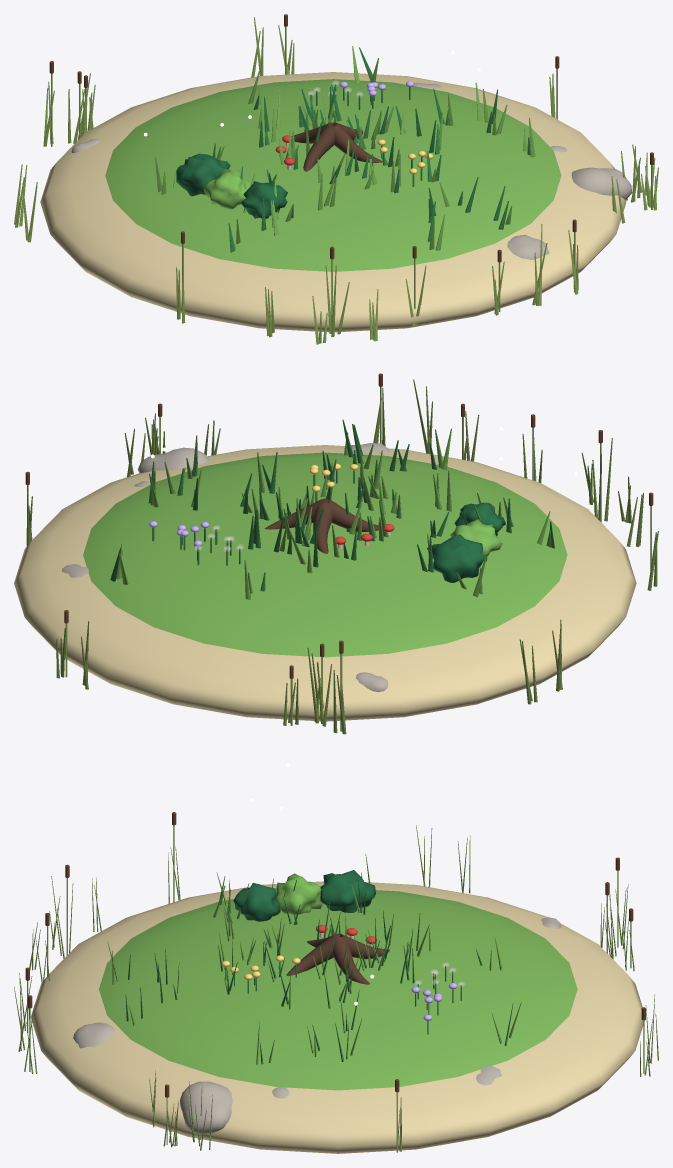
The model's file is islet_14.glb.
3 views of the same model, one above another, from view 1: azimuth 30°, elevation 25°; view 2: azimuth 150°, elevation 25°; view 3: azimuth 270°, elevation 25° (orthographic). The views are drawn at different scales.
Visible parts, largest first — view 1: islet_grass.014, islet_sand.014, bush.042, rock.089, bush.043, bush.044, rock.086, root.058, root.059; view 2: islet_grass.014, islet_sand.014, bush.042, rock.089, bush.043, bush.044, root.057, root.058; view 3: islet_grass.014, islet_sand.014, rock.089, bush.042, bush.043, bush.044, rock.086, root.056, root.059.
Part boxes in pixels (box(x1,y1,x2,y2)): islet_grass.014: box(105, 79, 561, 271); islet_sand.014: box(40, 72, 626, 332); bush.042: box(176, 153, 230, 196); rock.089: box(571, 167, 632, 199); bush.043: box(203, 168, 251, 209); bush.044: box(241, 181, 287, 218); rock.086: box(507, 235, 549, 259); root.058: box(303, 125, 335, 171); root.059: box(333, 124, 382, 162); islet_grass.014: box(83, 452, 567, 657); islet_sand.014: box(14, 445, 636, 721); bush.042: box(427, 534, 485, 582); rock.089: box(137, 447, 209, 472); bush.043: box(450, 519, 502, 561); bush.044: box(454, 502, 505, 535); root.057: box(313, 502, 332, 553); root.058: box(328, 499, 382, 531); islet_grass.014: box(99, 890, 577, 1090); islet_sand.014: box(30, 881, 643, 1153); rock.089: box(180, 1081, 232, 1134); bush.042: box(320, 870, 375, 912); bush.043: box(276, 873, 322, 914); bush.044: box(233, 883, 280, 921); rock.086: box(73, 1022, 114, 1048); root.056: box(332, 937, 369, 984); root.059: box(286, 935, 336, 976).
Bounding box in the file's own units: 9.63 × 3.36 × 9.86.
